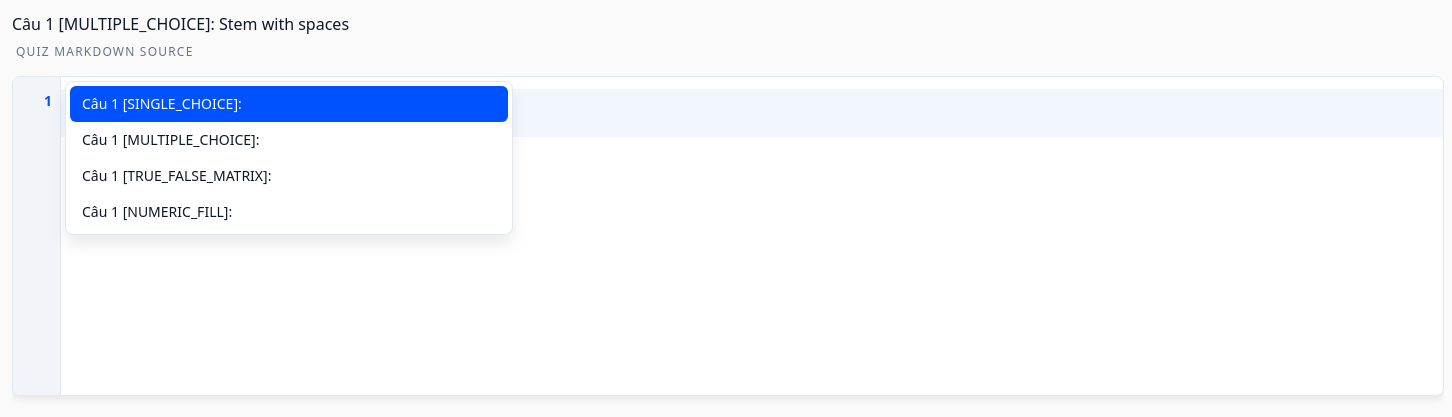
QuizMarkdownCodeEditor › replaces an existing question marker and preserves the stem exactly
Click the dropdown labelled "Quiz Markdown source".
click(752, 236)  # box [61,77,1443,395]
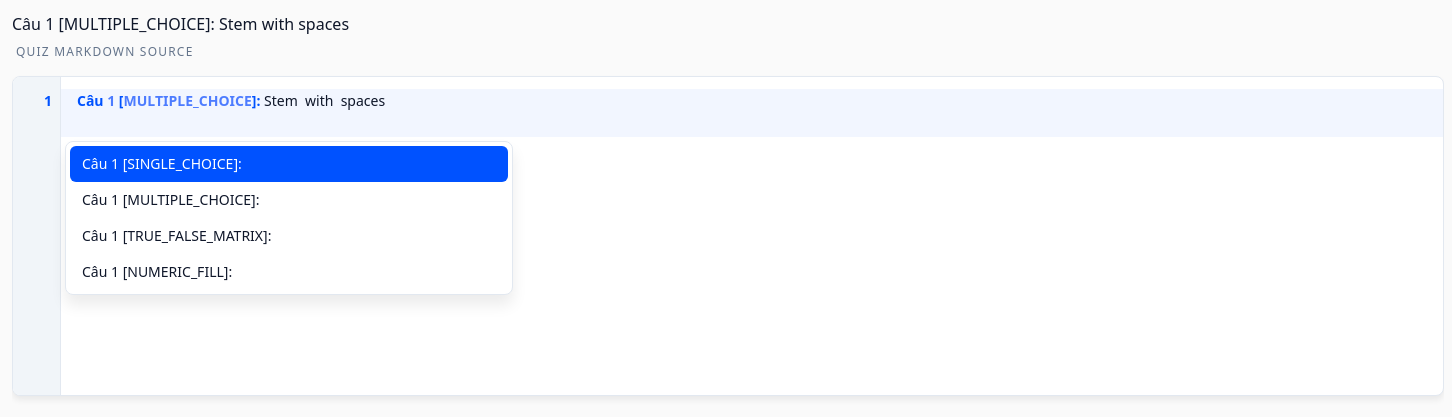
Click the option "Câu 1 [SINGLE_CHOICE]:".
click(162, 164)  # box [70,146,508,182]
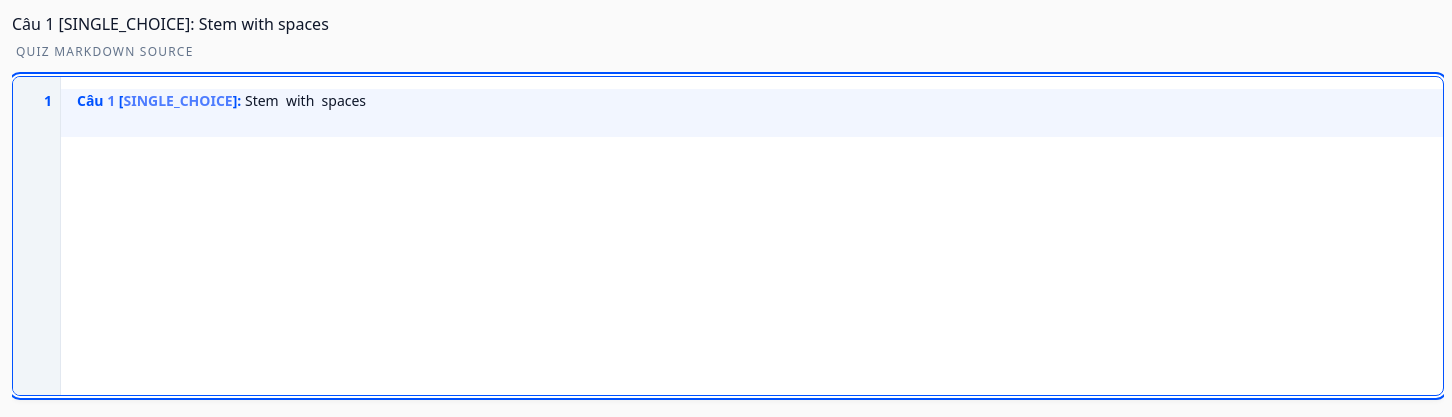
Now the dropdown labelled "Quiz Markdown source" holds "Câu 1 [SINGLE_CHOICE]: Stem  with  spaces"
